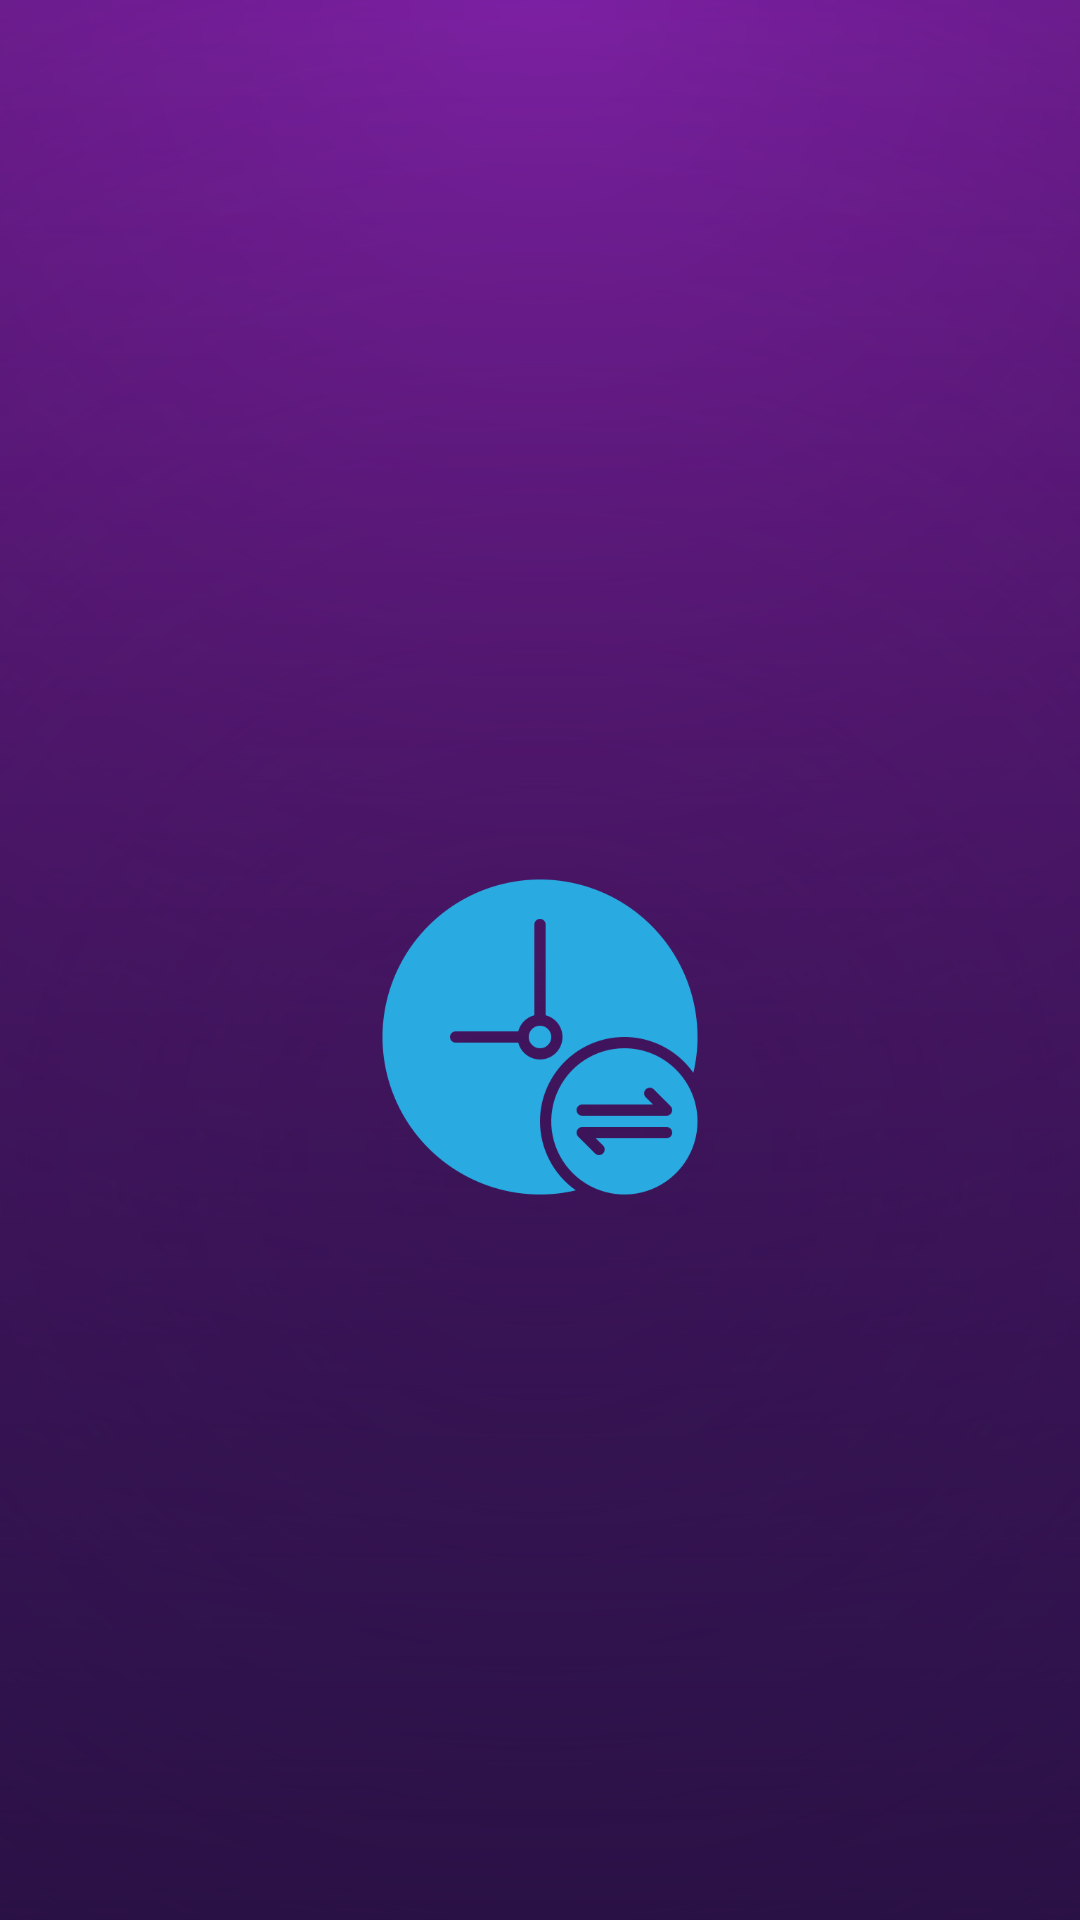

Point at icon controls on the screen. Image size 1080px×1920px, points as (x=x, y=y).
duration: (x=540, y=1037)
